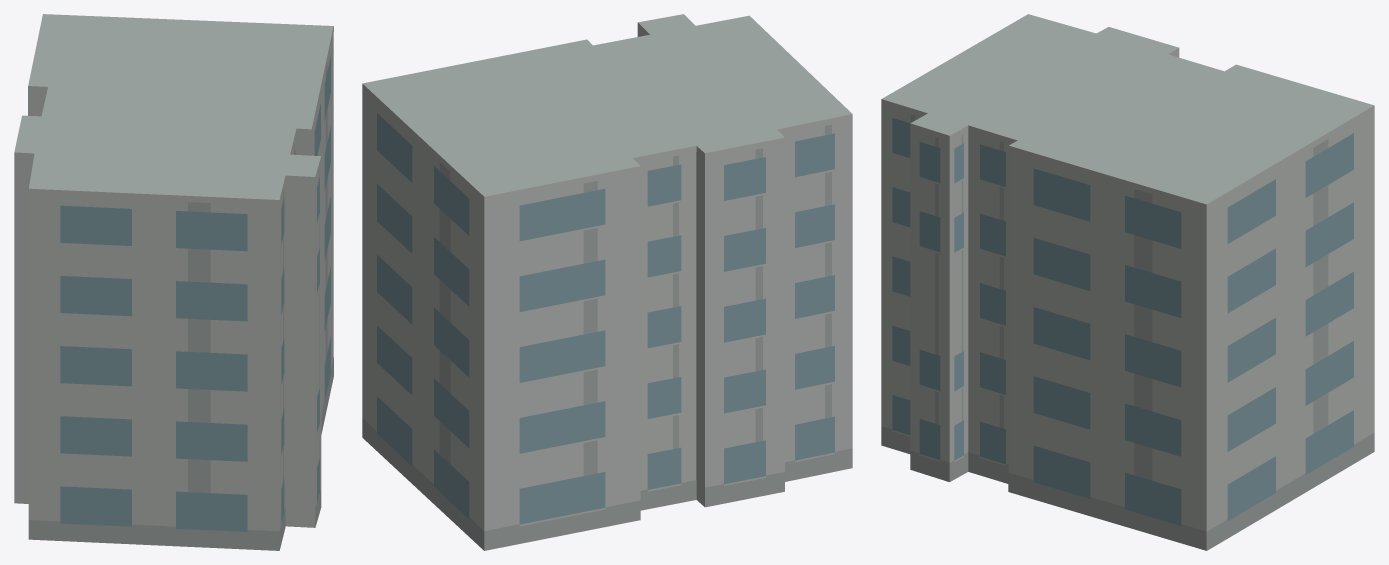
Rendered from survey-upis-32816232.glb.
3 views of the same model, side by side, from view 1: azimuth 30°, elevation 25°; view 2: azimuth 150°, elevation 25°; view 3: azimuth 270°, elevation 25° (orthographic). The views are drawn at different scales.
Visible parts, largest first — view 1: survey-upis-32816232.tmp; view 2: survey-upis-32816232.tmp; view 3: survey-upis-32816232.tmp.
Part boxes in pixels (x1,y1,x2,y2): survey-upis-32816232.tmp: (14,14,333,550); survey-upis-32816232.tmp: (362,14,852,550); survey-upis-32816232.tmp: (881,14,1374,550).
Size of the model in its own units: 16.17 by 13.7 by 17.68.
